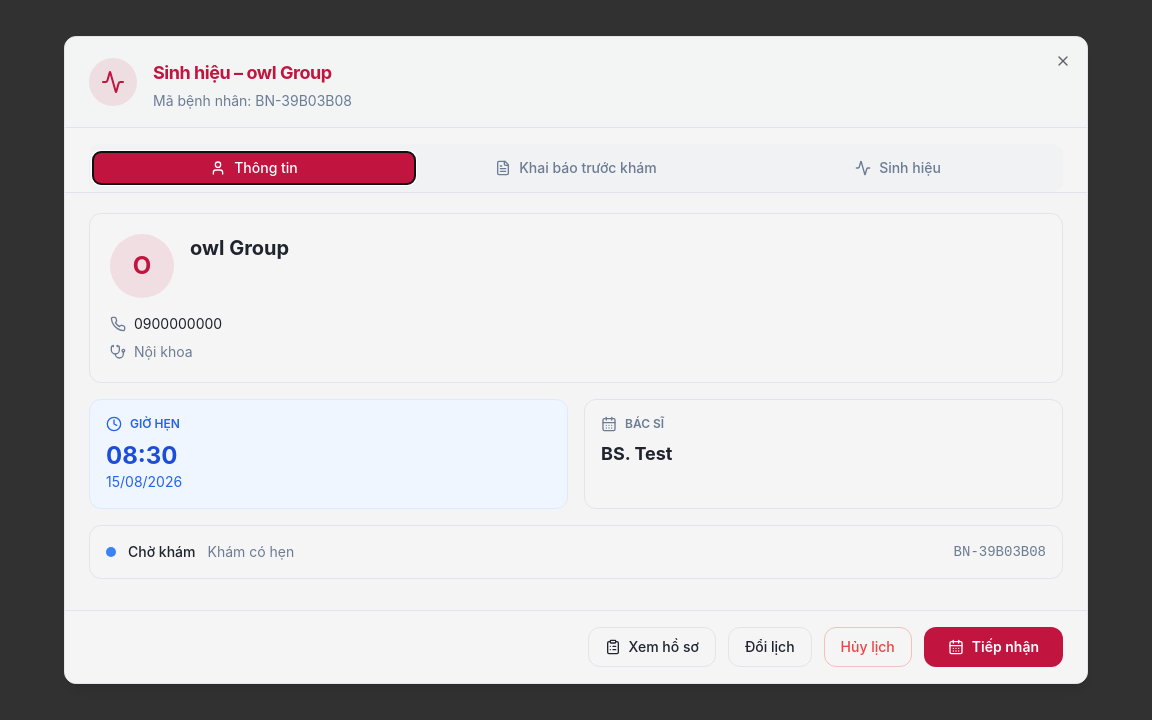
Test: VitalSignsSheet pre-visit tab › shows the submitted patient declaration instead of an empty placeholder
Press the mouse on the tab "Khai báo trước khám" at (576, 168), box x1=415 y1=152 x2=737 y2=184
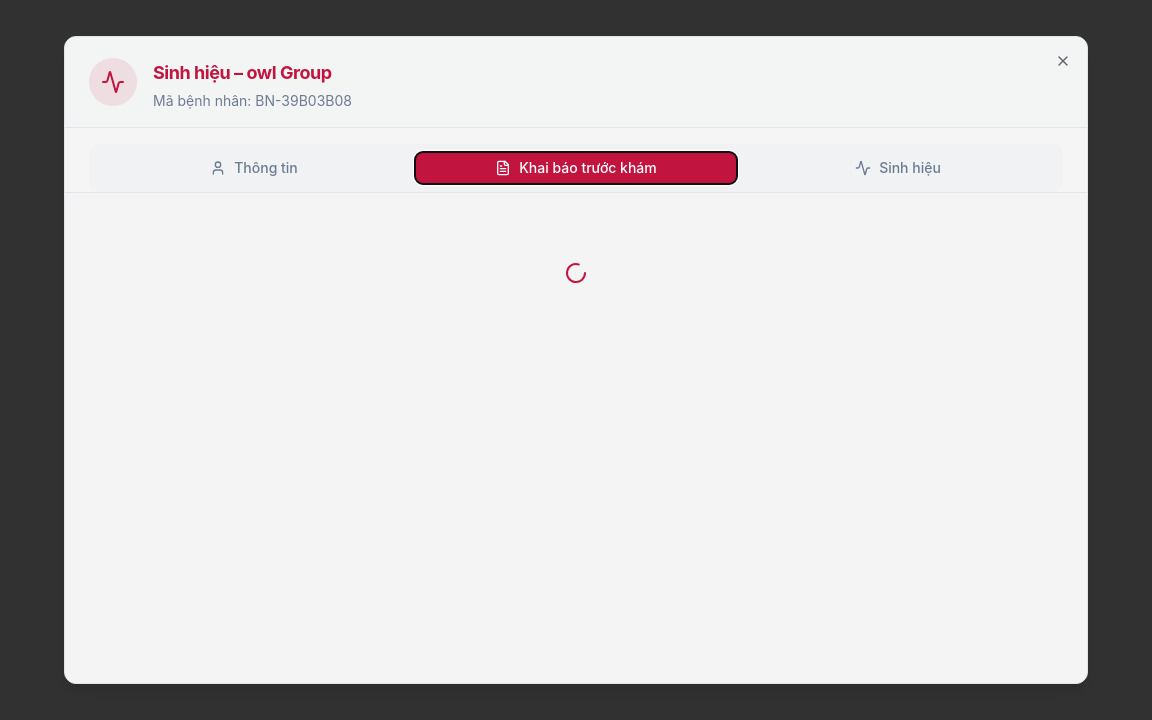
Click the tab "Khai báo trước khám". click: click(576, 168)
box: x1=415 y1=152 x2=737 y2=184
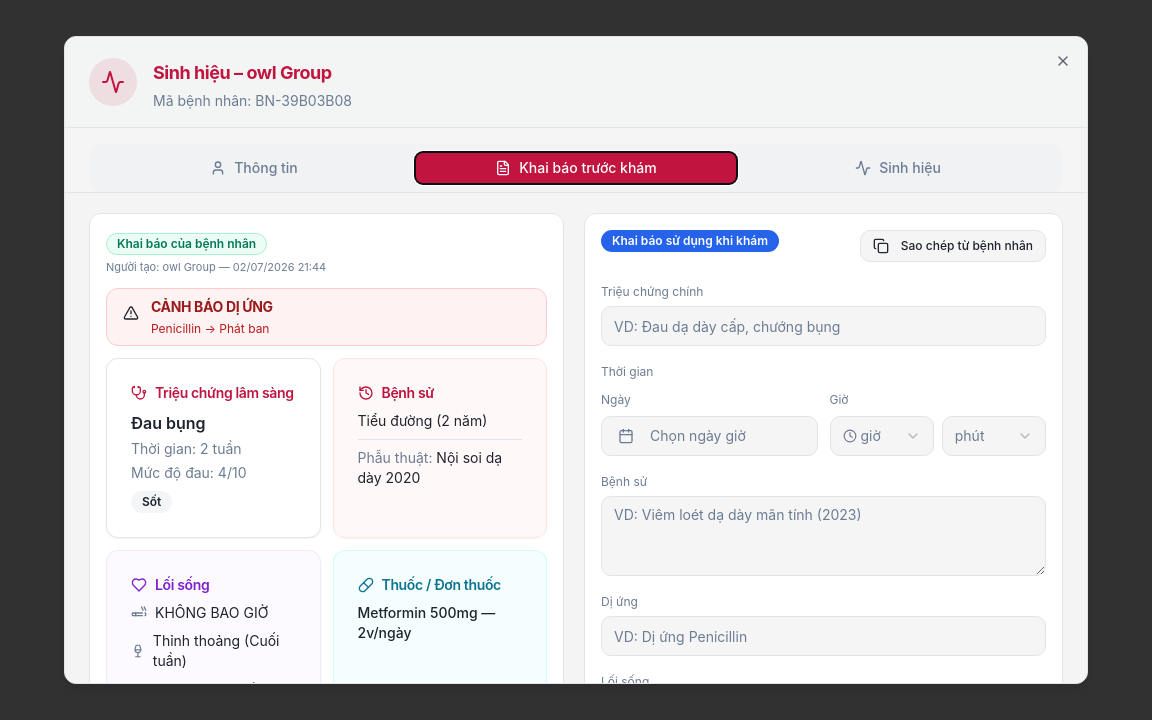
Expected: the text "Đau bụng" is shown, x1=131 y1=412 x2=206 y2=432
Expected: the text "Metformin 500mg — 2v/ngày" is shown, x1=358 y1=604 x2=495 y2=640
